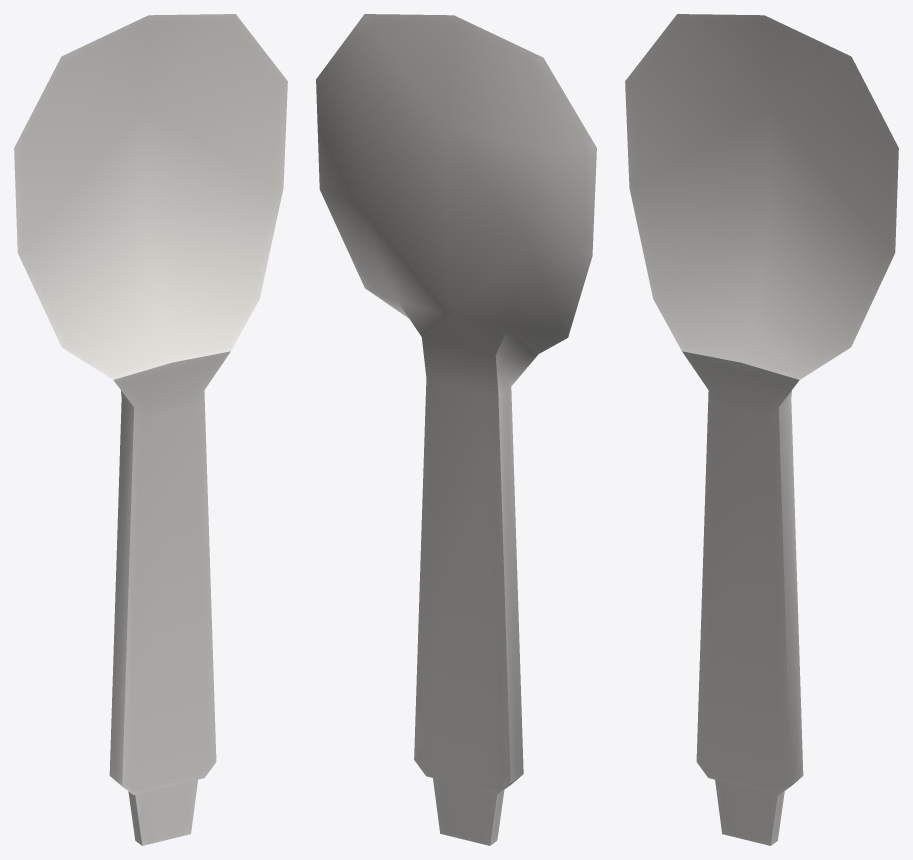
Rendered from KR_Ricespatula_01_01.fbx.
3 views of the same model, side by side, from view 1: azimuth 30°, elevation 25°; view 2: azimuth 150°, elevation 25°; view 3: azimuth 330°, elevation 25° (orthographic). The views are drawn at different scales.
Visible parts, largest first — view 1: kr_ricespatula_01_01; view 2: kr_ricespatula_01_01; view 3: kr_ricespatula_01_01.
Boxes of the visible parts, x1,y1,x2,y2 form: kr_ricespatula_01_01: [14, 14, 287, 845]; kr_ricespatula_01_01: [316, 14, 596, 845]; kr_ricespatula_01_01: [625, 14, 898, 845].
Size of the model in its own units: 7.74 by 21.92 by 1.63.
